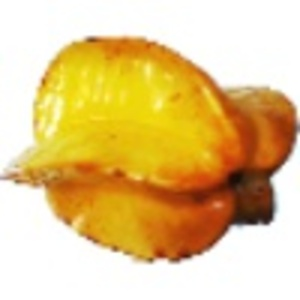carambola: (1, 34, 300, 266)
